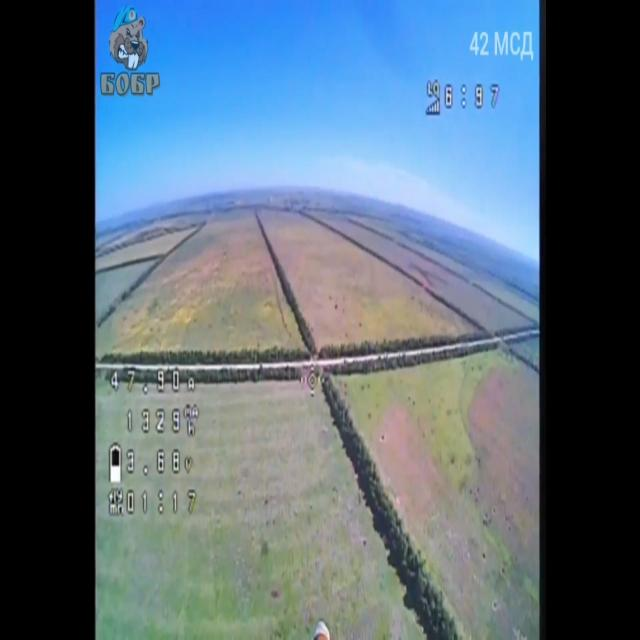cars: (344, 359, 348, 364), (378, 355, 382, 359), (403, 352, 406, 357)
